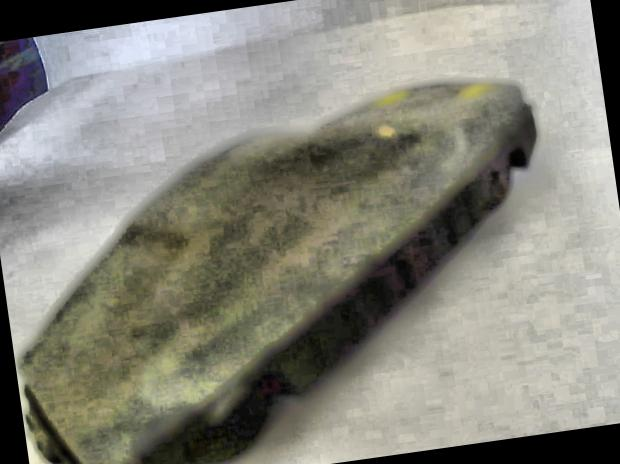normal_car: (0, 0, 590, 464)
